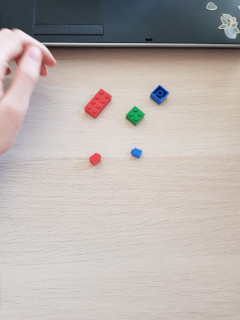1x1 blue: (130, 147, 141, 159)
1x2 red: (88, 151, 102, 167)
2x2 blue: (150, 84, 169, 105)
2x2 green: (126, 105, 146, 127)
2x4 red: (85, 88, 111, 120)
